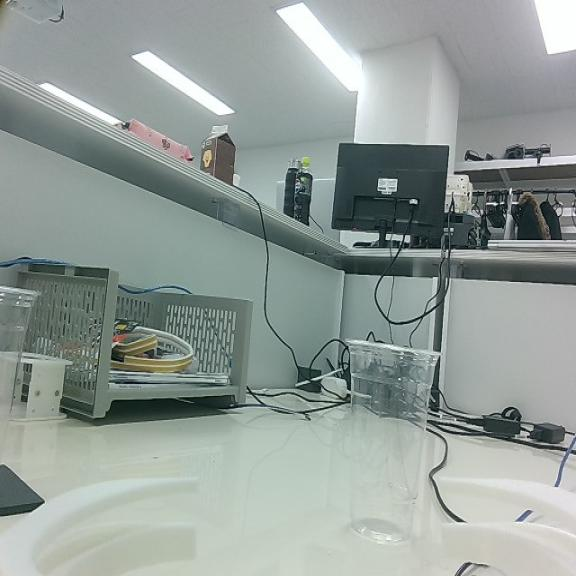Plastik: (349, 340, 439, 543)
